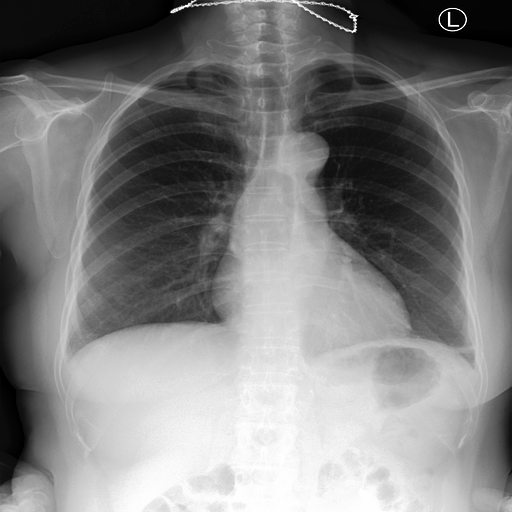Infiltration: (431, 320, 490, 378), (449, 343, 477, 356)
Pneumothorax: (449, 336, 486, 363)
